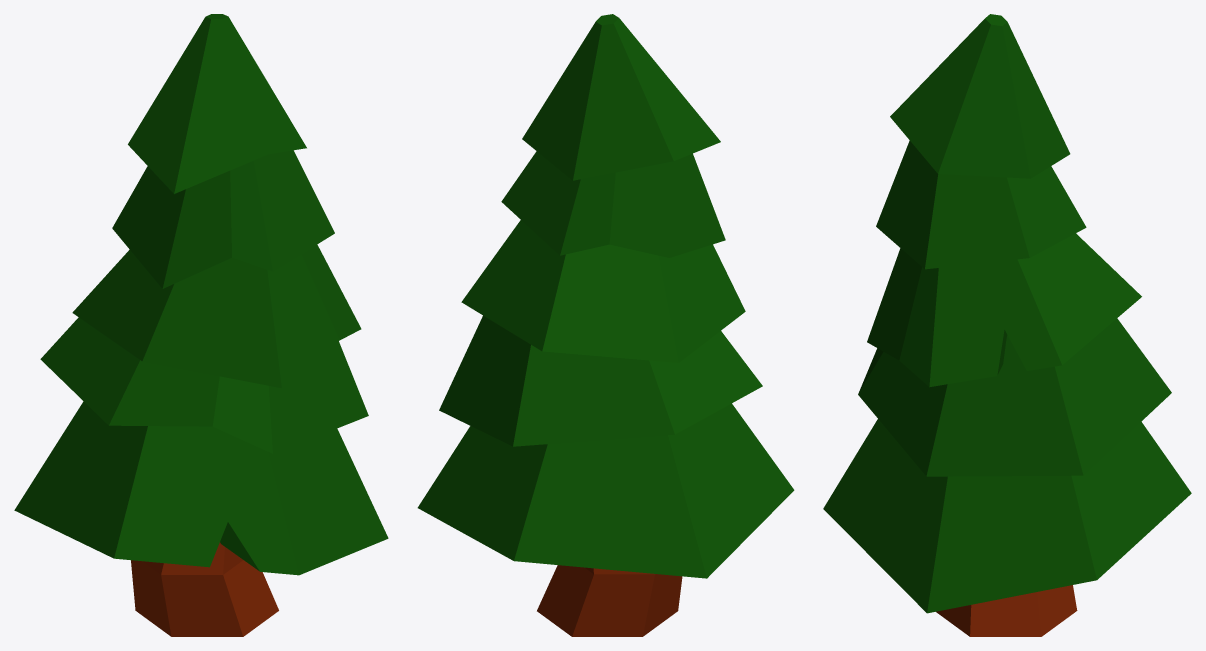
File: tree_pyramidal1.glb
The picture shows the model from 3 angles, left to right: view 1: azimuth 30°, elevation 25°; view 2: azimuth 150°, elevation 25°; view 3: azimuth 270°, elevation 25°; orthographic projection.
Visible parts, largest first — view 1: tree_pyramidal1; view 2: tree_pyramidal1; view 3: tree_pyramidal1.
Part boxes in pixels (box(x1,y1,x2,y2)): tree_pyramidal1: box(14, 14, 388, 636); tree_pyramidal1: box(417, 14, 794, 636); tree_pyramidal1: box(823, 14, 1191, 636).
Bounding box in the file's own units: 0.6015 × 1.17 × 0.6562.
